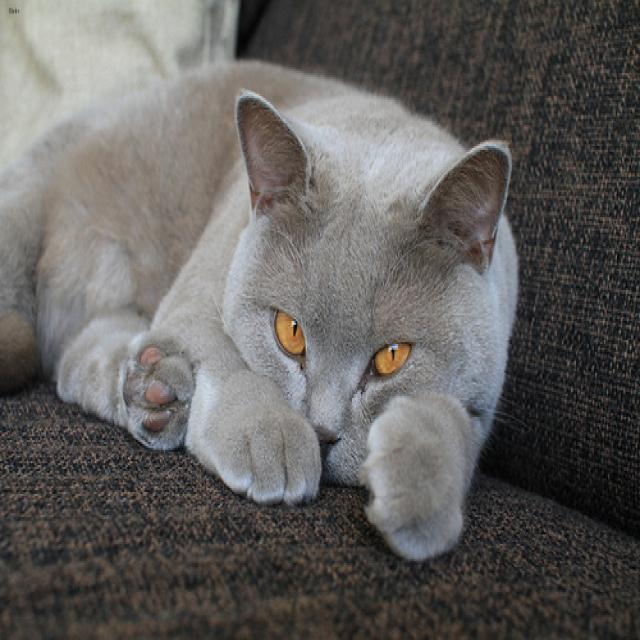British_Shorthair: (214, 76, 522, 481)
